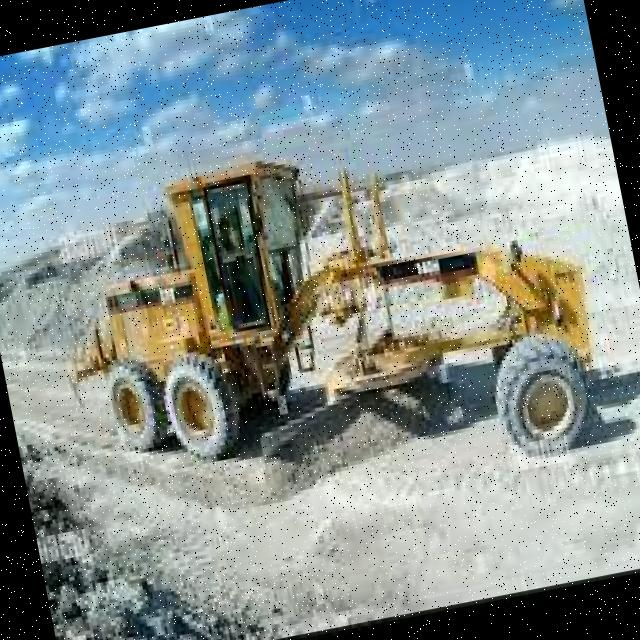Grader: (44, 82, 624, 560)
